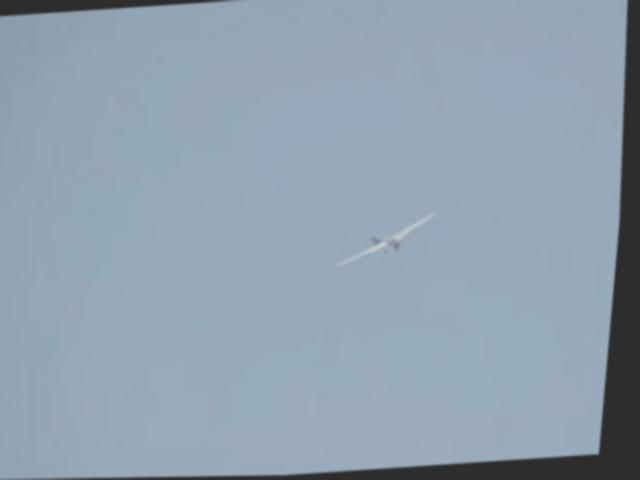uav: (326, 199, 447, 279)
